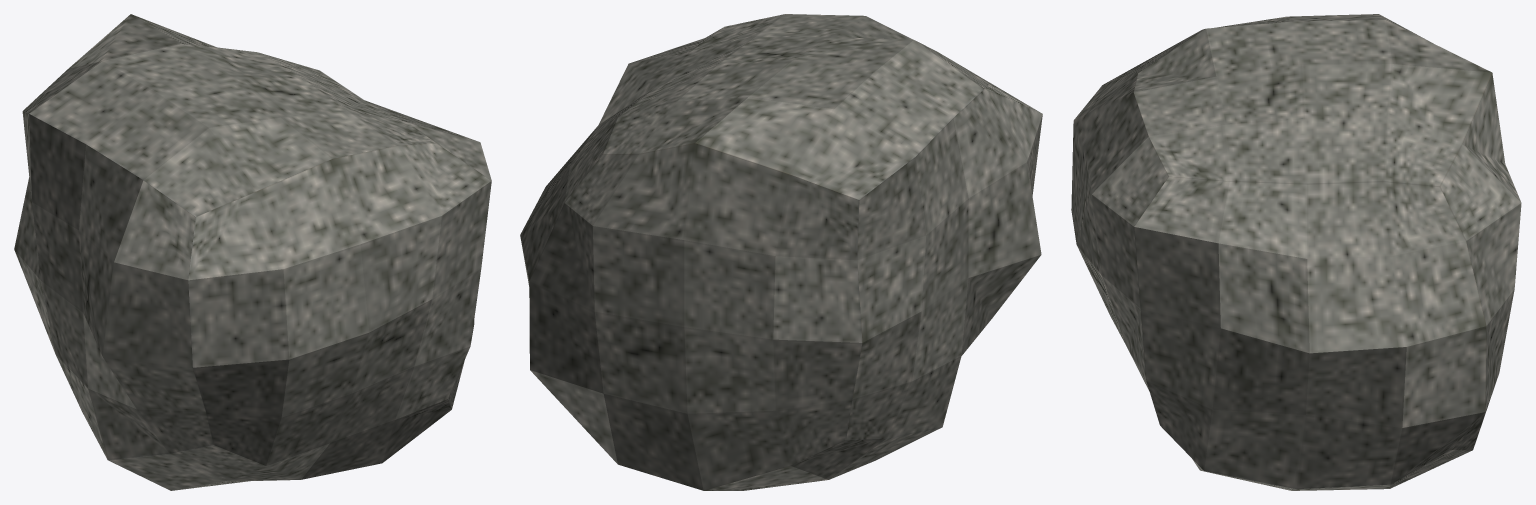
The model's file is SM_EC_Rock_06.fbx.
3 renders of one model, left to right at view 1: azimuth 30°, elevation 25°; view 2: azimuth 150°, elevation 25°; view 3: azimuth 270°, elevation 25°, orthographic. The views are drawn at different scales.
Visible parts, largest first — view 1: SM_EC_Rock_06; view 2: SM_EC_Rock_06; view 3: SM_EC_Rock_06.
Boxes of the visible parts, x1,y1,x2,y2 form: SM_EC_Rock_06: (14, 14, 491, 490); SM_EC_Rock_06: (520, 14, 1042, 490); SM_EC_Rock_06: (1071, 14, 1521, 490).
Bounding box in the file's own units: 1.17 × 1.1 × 1.06.
